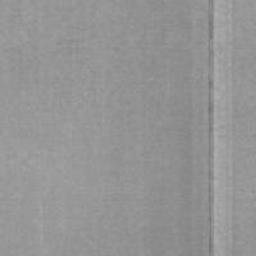Welding line: (206, 0, 216, 256)
